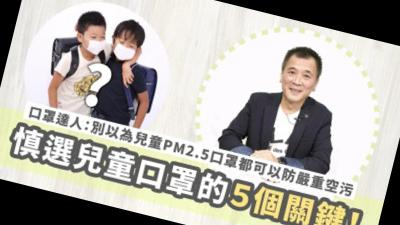with_mask: (110, 35, 140, 65), (81, 28, 109, 57)
without_mask: (277, 62, 319, 106)
